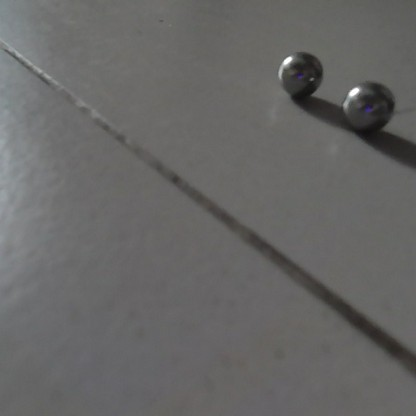ironball: (339, 80, 395, 133), (277, 51, 323, 98)
